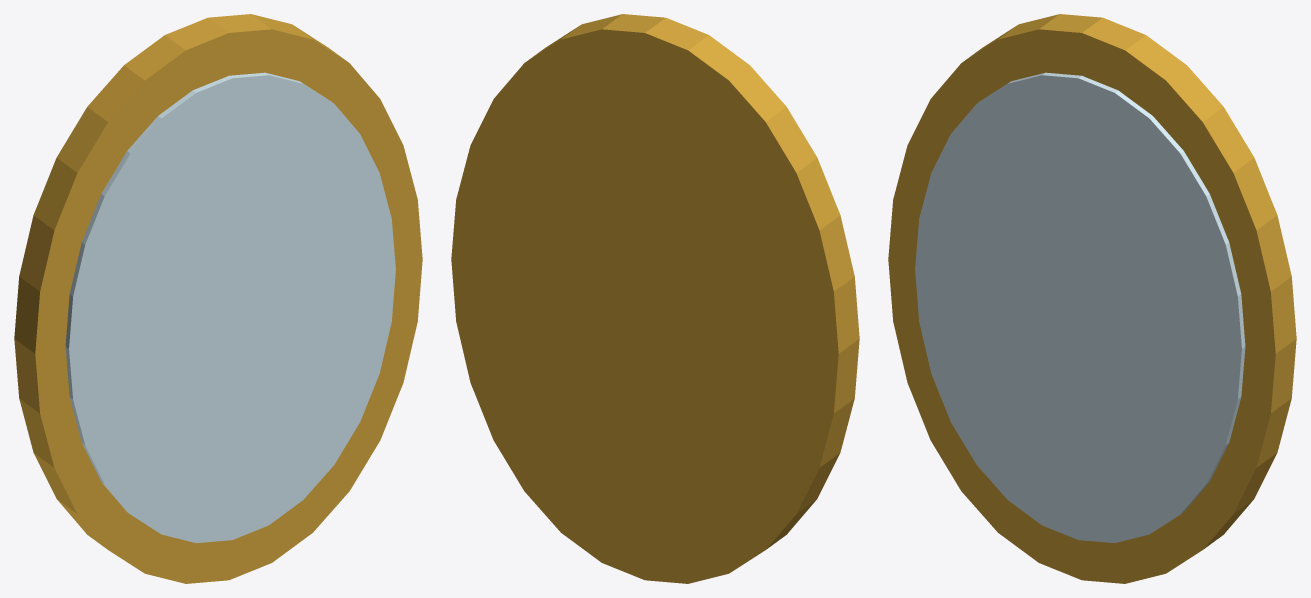
File: mirror.glb
The picture shows the model from 3 angles, left to right: view 1: azimuth 30°, elevation 25°; view 2: azimuth 150°, elevation 25°; view 3: azimuth 330°, elevation 25°; orthographic projection.
Parts seen in each view (by area): view 1: Glass, Frame; view 2: Frame; view 3: Glass, Frame.
Boxes of the visible parts, box(x1,y1,x2,y2) form: Glass: box(65, 72, 395, 543); Frame: box(14, 14, 422, 583); Frame: box(451, 14, 859, 583); Glass: box(915, 72, 1245, 543); Frame: box(888, 14, 1296, 583).
Bounding box in the file's own units: 0.64 × 0.864 × 0.07.
